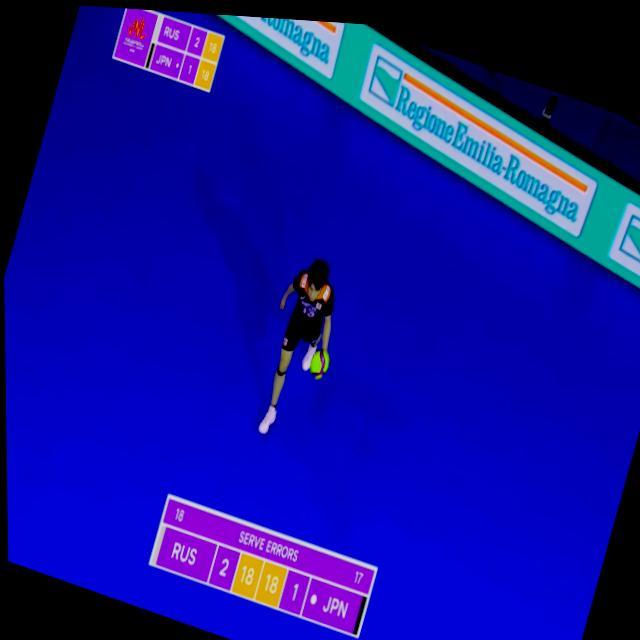player: (238, 238, 358, 451)
